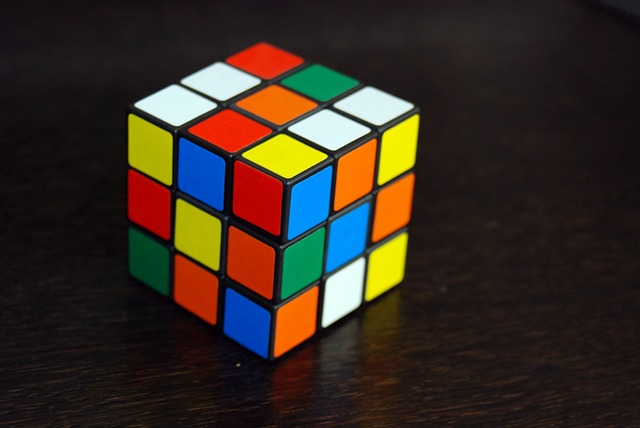cube: (125, 40, 420, 365)
